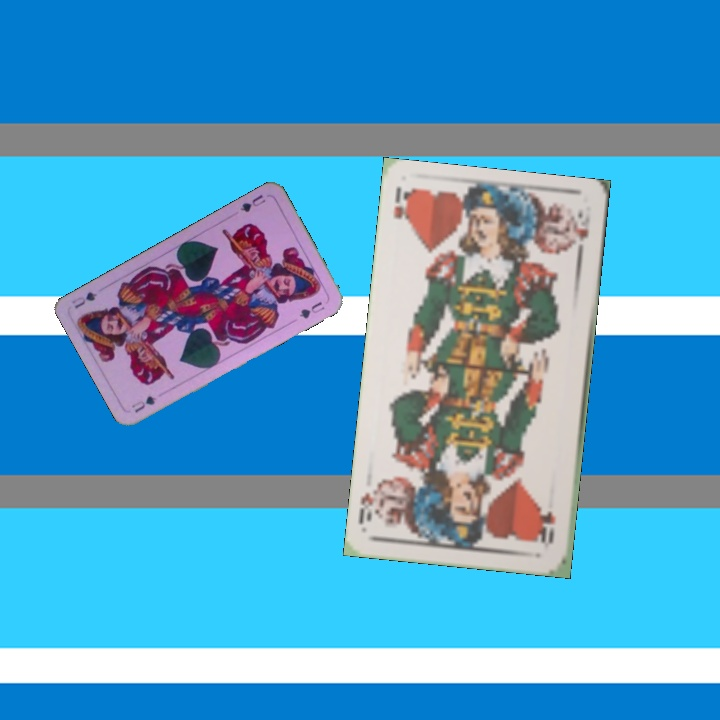GU: (236, 190, 268, 215), (127, 392, 159, 416)
HO: (389, 183, 414, 227), (538, 506, 558, 550)
